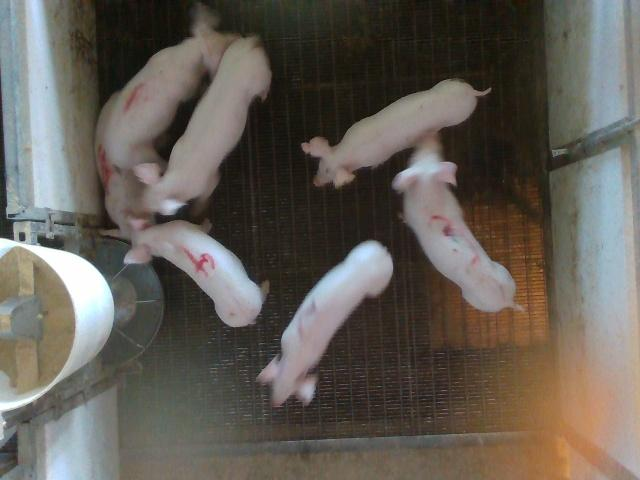pig-1: (102, 4, 239, 168)
pig-2: (256, 240, 392, 406)
pig-3: (392, 134, 524, 312)
pig-4: (124, 218, 264, 327)
pig-5: (95, 92, 152, 239)
